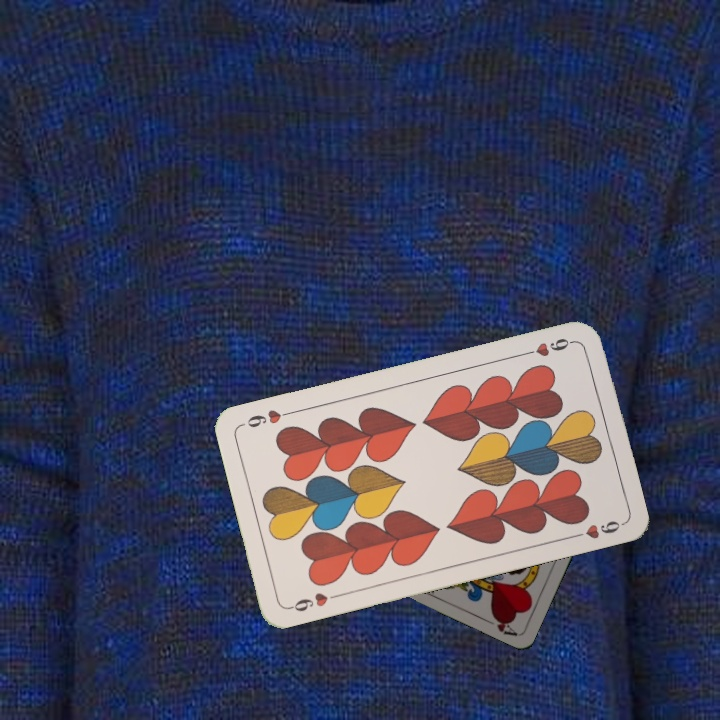H9: (284, 588, 343, 615), (520, 334, 578, 360)
